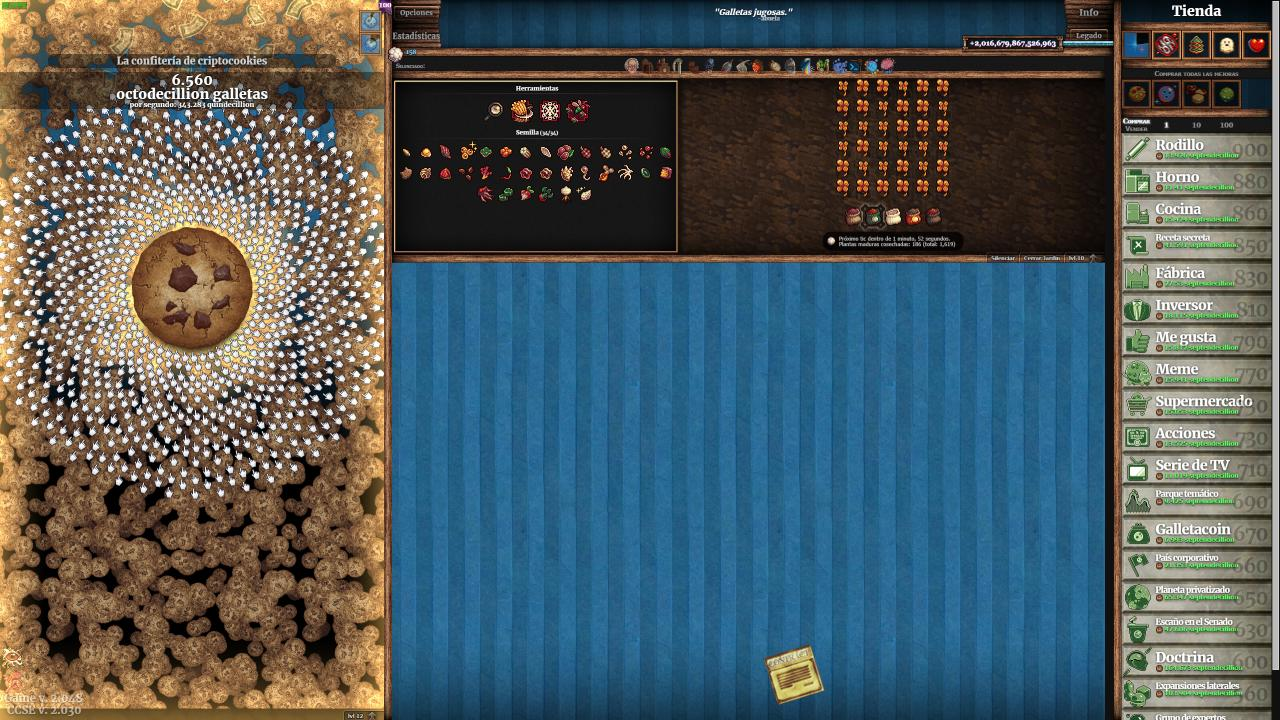GoldenCartridge: (763, 643, 826, 707)
